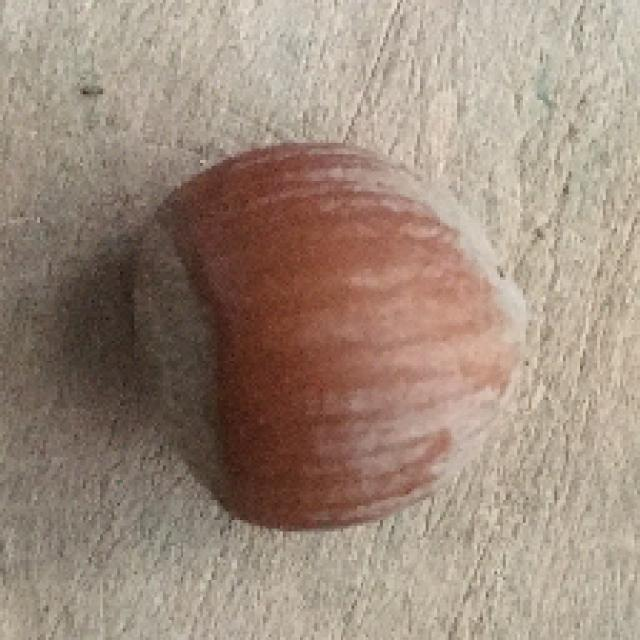qualityHazelnut: (133, 136, 535, 535)
